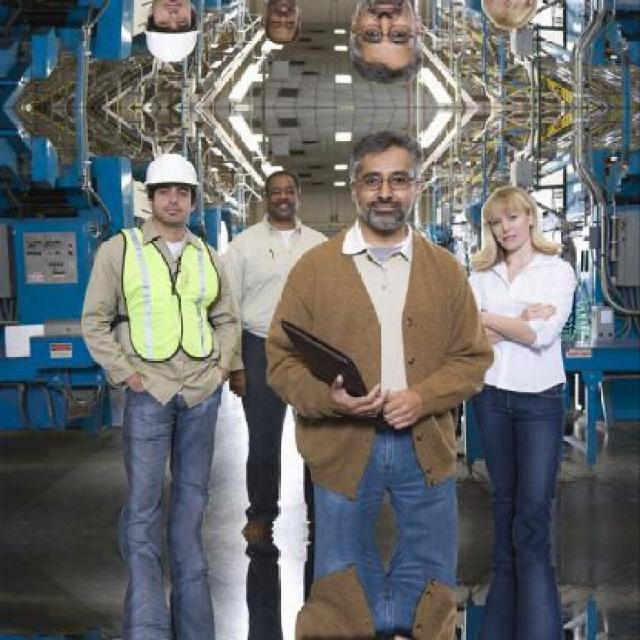Reflective-Jacket: (111, 225, 223, 368)
Safety-Helmet: (138, 150, 202, 192)
